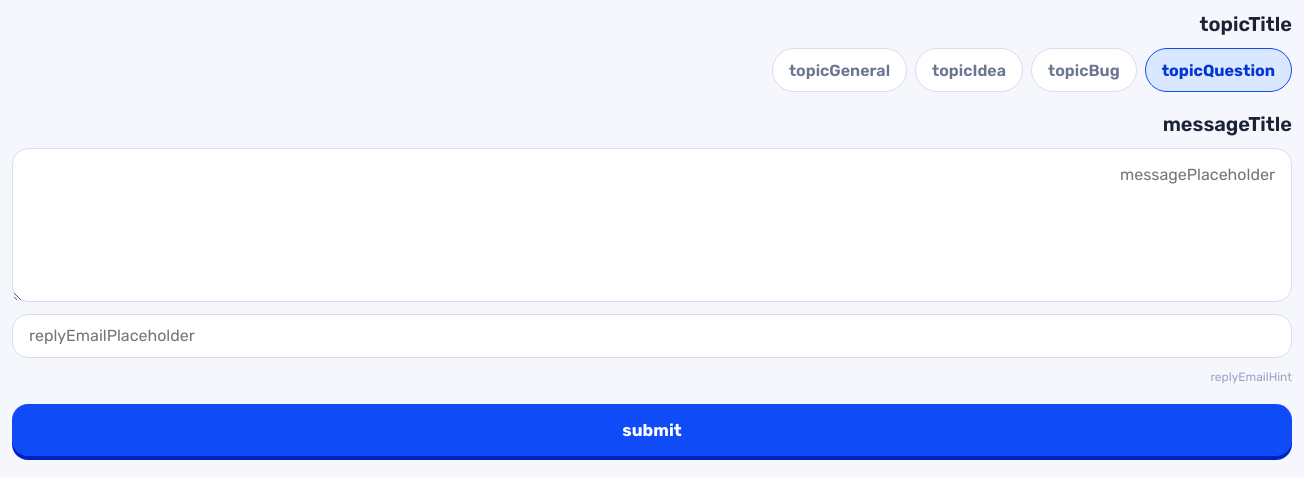
Scenario: ContactForm › submits the selected topic and shows the sent state
Click the button "topicIdea". click: (969, 70)
box: [915,48,1023,92]
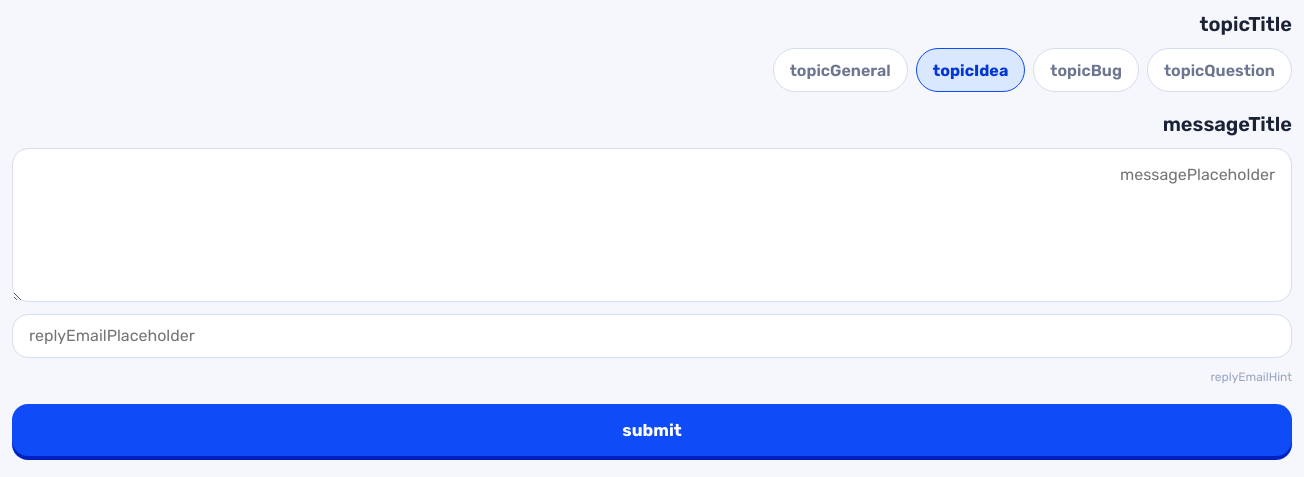
Type "Helpful idea" into the text box with placeholder "messagePlaceholder". click: (652, 225)
box: [12,148,1292,302]
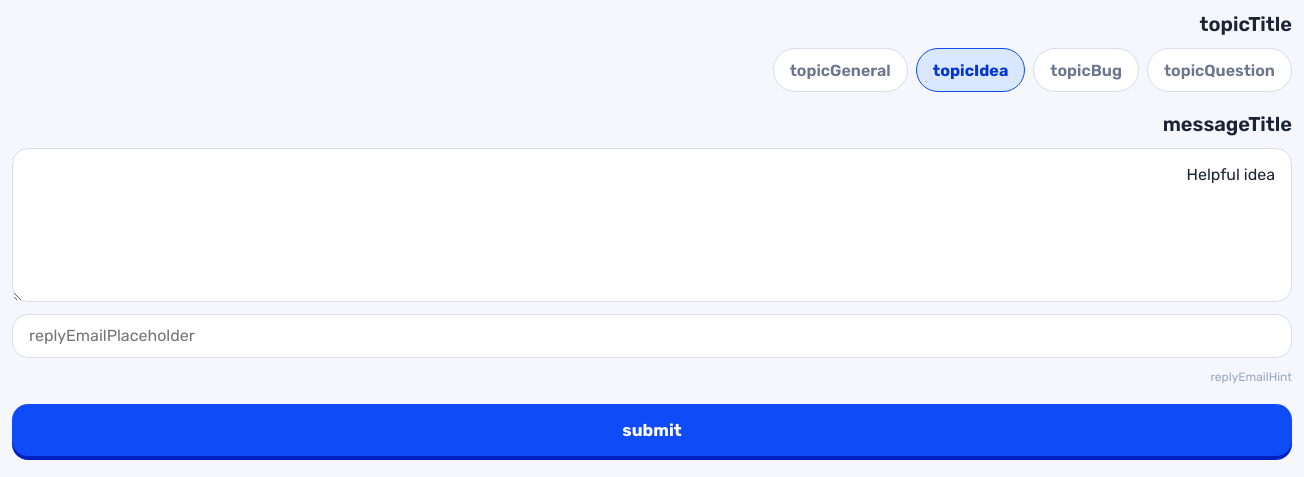
Type "reply@example.com" into the field with placeholder "replyEmailPlaceholder". click: (652, 336)
box: [12,314,1292,358]
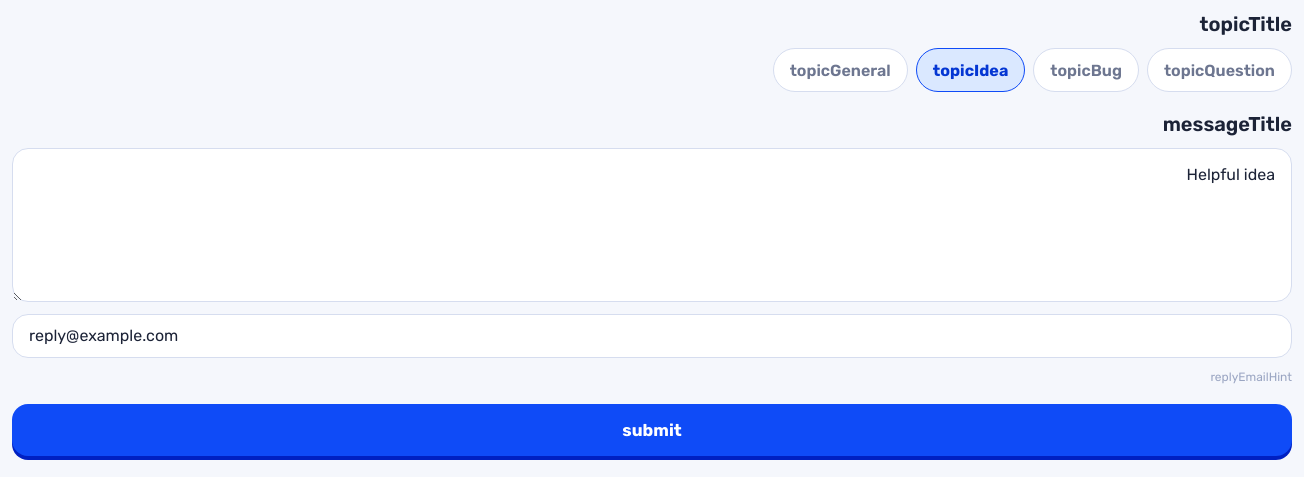
Submit the form named "submit"
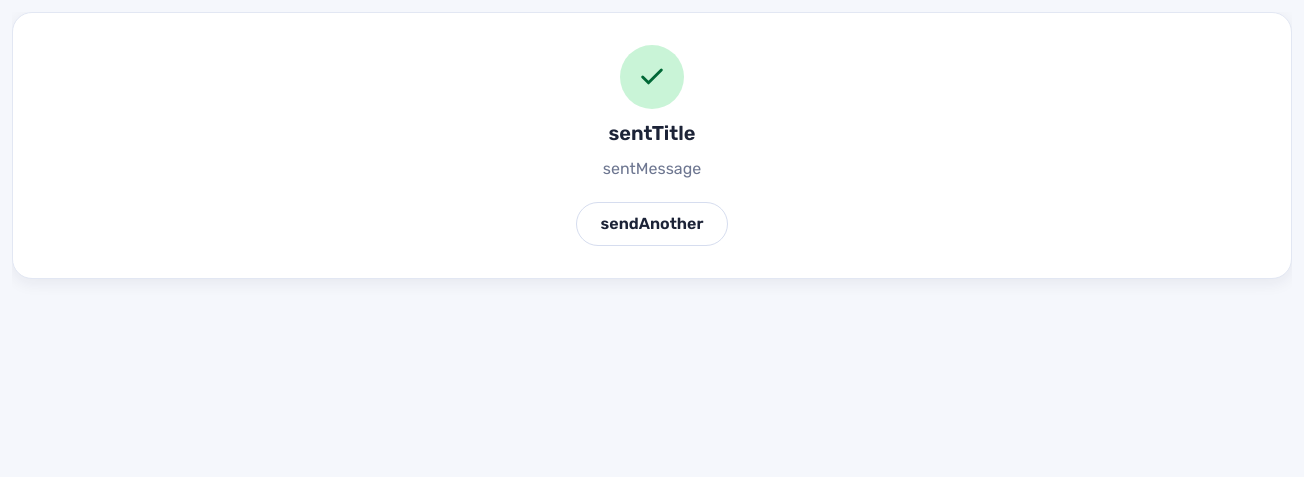
Result: the heading "sentTitle" is shown at [608,121,696,145]
